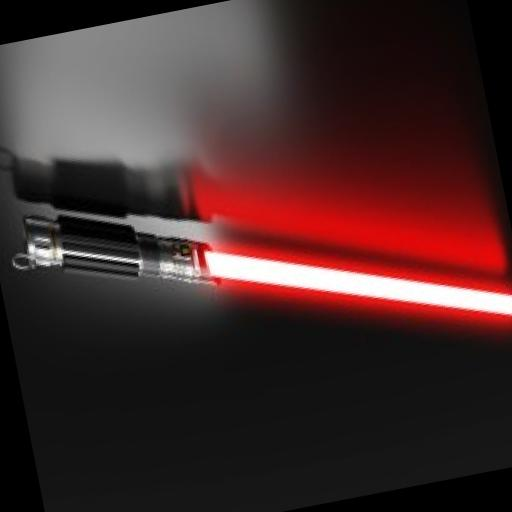sith saber: (9, 127, 512, 403)
